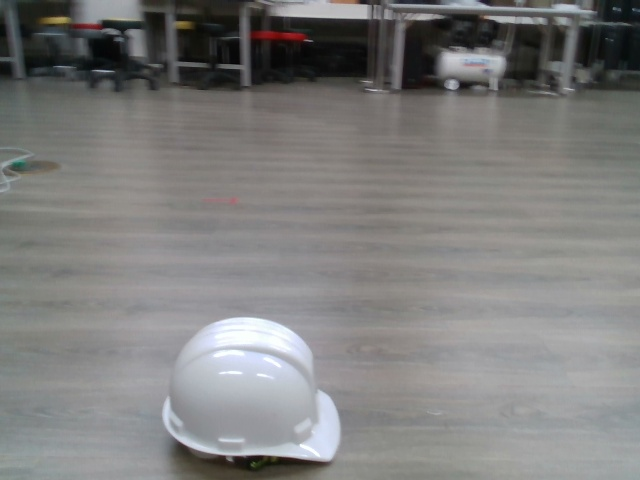helmet: (162, 314, 344, 471)
